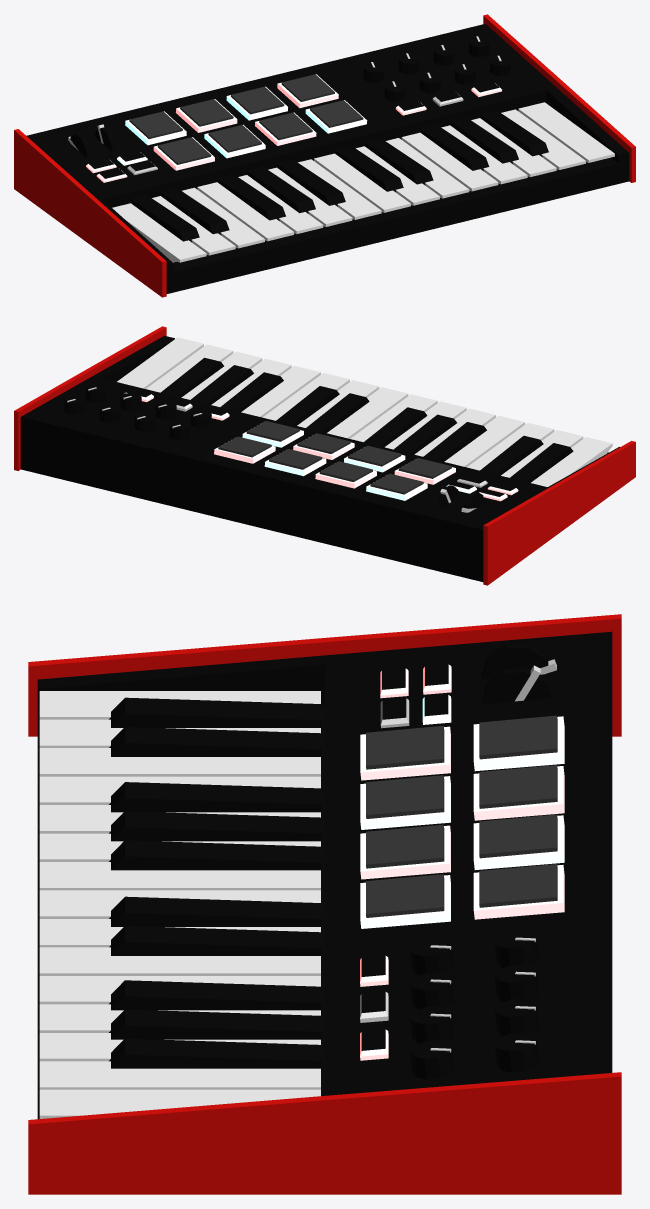
Rendered from akai_mpk_mini_midi_controller.glb.
3 views of the same model, one above another, from view 1: azimuth 30°, elevation 25°; view 2: azimuth 150°, elevation 25°; view 3: azimuth 270°, elevation 25° (orthographic). The views are drawn at different scales.
Parts seen in each view (by area): view 1: Midi Body_8, White Tuts_1, Cube.005_0, Pad_2, Knob #1_3, Button #1_7, Knob #2_6, Button #2_4; view 2: Midi Body_8, White Tuts_1, Cube.005_0, Pad_2, Knob #1_3, Button #1_7, Knob #2_6; view 3: Midi Body_8, White Tuts_1, Cube.005_0, Pad_2, Knob #1_3, Knob #2_6, Button #1_7, Button #2_4, Cube.002_5.
Part boxes in pixels (x1,y1,x2,y2): Midi Body_8: (14, 14, 635, 297); White Tuts_1: (112, 102, 614, 262); Cube.005_0: (130, 110, 548, 242); Pad_2: (125, 74, 367, 170); Knob #1_3: (363, 36, 510, 101); Button #1_7: (86, 151, 157, 182); Knob #2_6: (68, 124, 116, 157); Button #2_4: (395, 82, 501, 115); Midi Body_8: (14, 326, 635, 585); White Tuts_1: (117, 337, 612, 486); Cube.005_0: (161, 357, 573, 482); Pad_2: (214, 421, 455, 500); Knob #1_3: (64, 384, 211, 440); Button #1_7: (446, 475, 518, 501); Knob #2_6: (437, 485, 484, 513); Midi Body_8: (28, 614, 621, 1194); White Tuts_1: (39, 691, 320, 1118); Cube.005_0: (109, 697, 321, 1081); Pad_2: (360, 715, 564, 928); Knob #1_3: (410, 930, 539, 1079); Knob #2_6: (481, 643, 556, 703); Button #1_7: (380, 664, 451, 728); Button #2_4: (360, 955, 388, 1060); Cube.002_5: (360, 991, 388, 1022).
Size of the model in its own units: 11.65 by 1.51 by 6.31.
